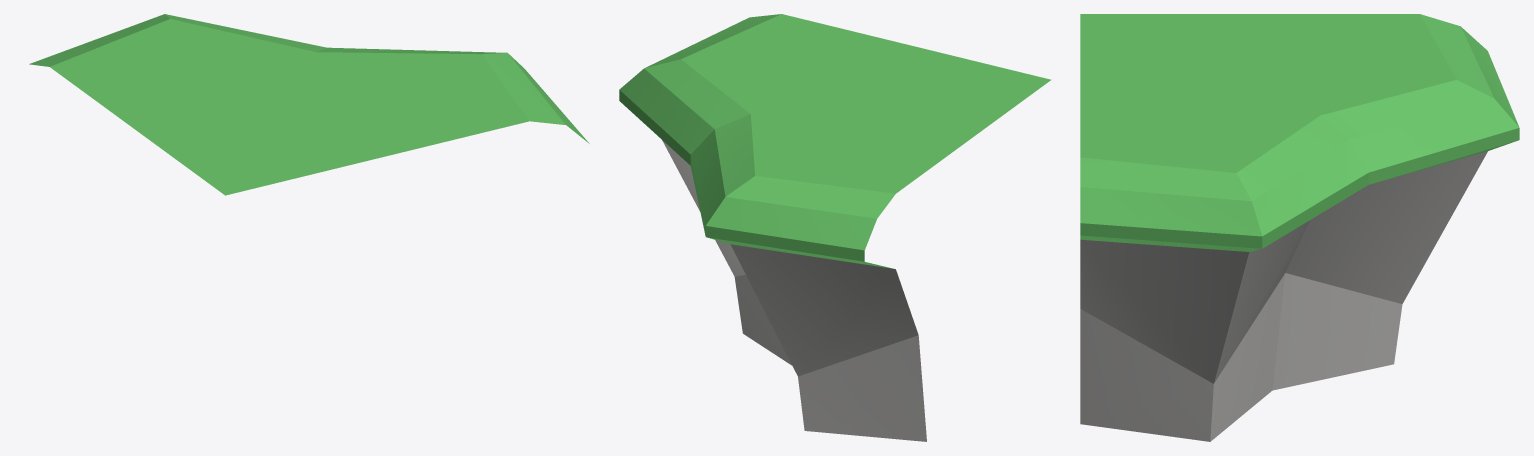
Rendered from Cliff_Terrain_Corner_Outer_2x2_Top.glb.
3 views of the same model, side by side, from view 1: azimuth 30°, elevation 25°; view 2: azimuth 150°, elevation 25°; view 3: azimuth 270°, elevation 25° (orthographic). The views are drawn at different scales.
Visible parts, largest first — view 1: Cliff_Terrain_Corner_Outer_2x2_Top; view 2: Cliff_Terrain_Corner_Outer_2x2_Top; view 3: Cliff_Terrain_Corner_Outer_2x2_Top.
Boxes of the visible parts, <box> form: Cliff_Terrain_Corner_Outer_2x2_Top: <box>29,14,589,195</box>; Cliff_Terrain_Corner_Outer_2x2_Top: <box>619,14,1051,441</box>; Cliff_Terrain_Corner_Outer_2x2_Top: <box>1080,14,1519,441</box>.
Size of the model in its own units: 1.62 by 1.2 by 1.62.
